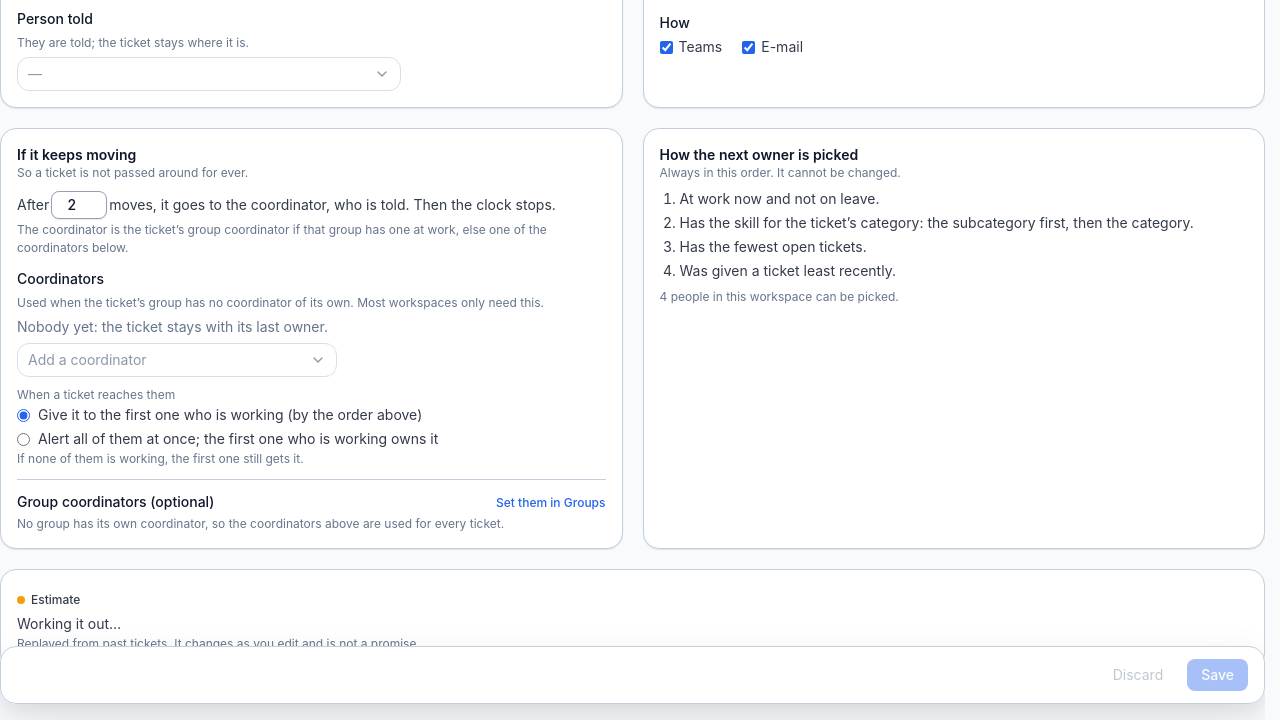
it: Urgent response: workspace coordinators › a refused save says why and keeps the draft
This screenshot has width=1280, height=720.
(page scrolled)
Click the dropdown labelled "Add a coordinator" at point(87, 360), box [17,343,337,377]
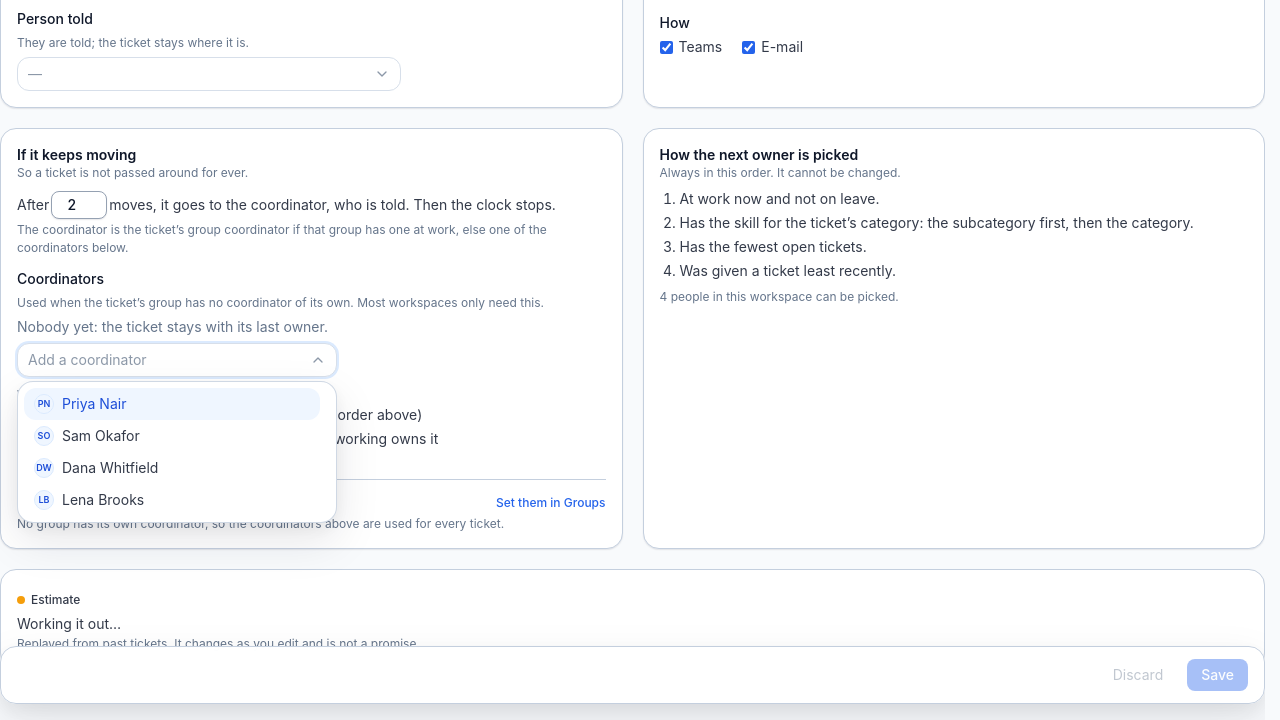
Click the option "PN Priya Nair" at point(94, 404), box [24,388,320,420]
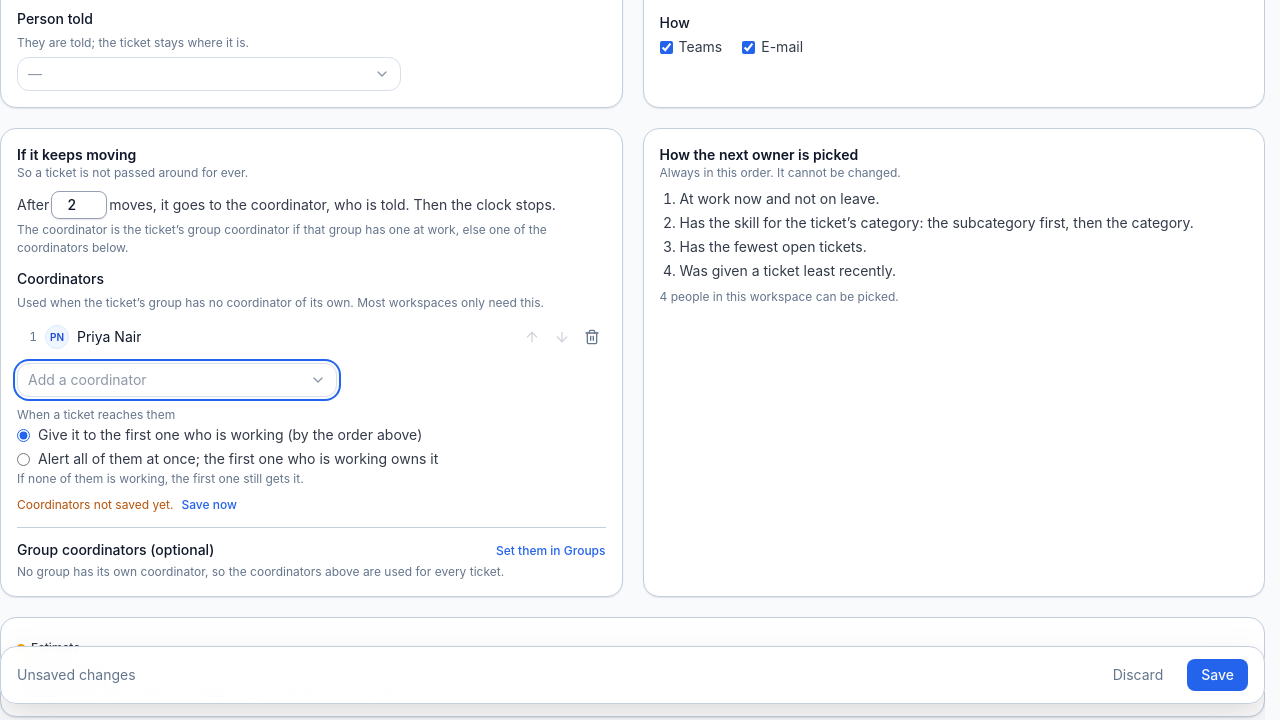
Click the button "Save" at point(1218, 675), box [1187,659,1248,691]
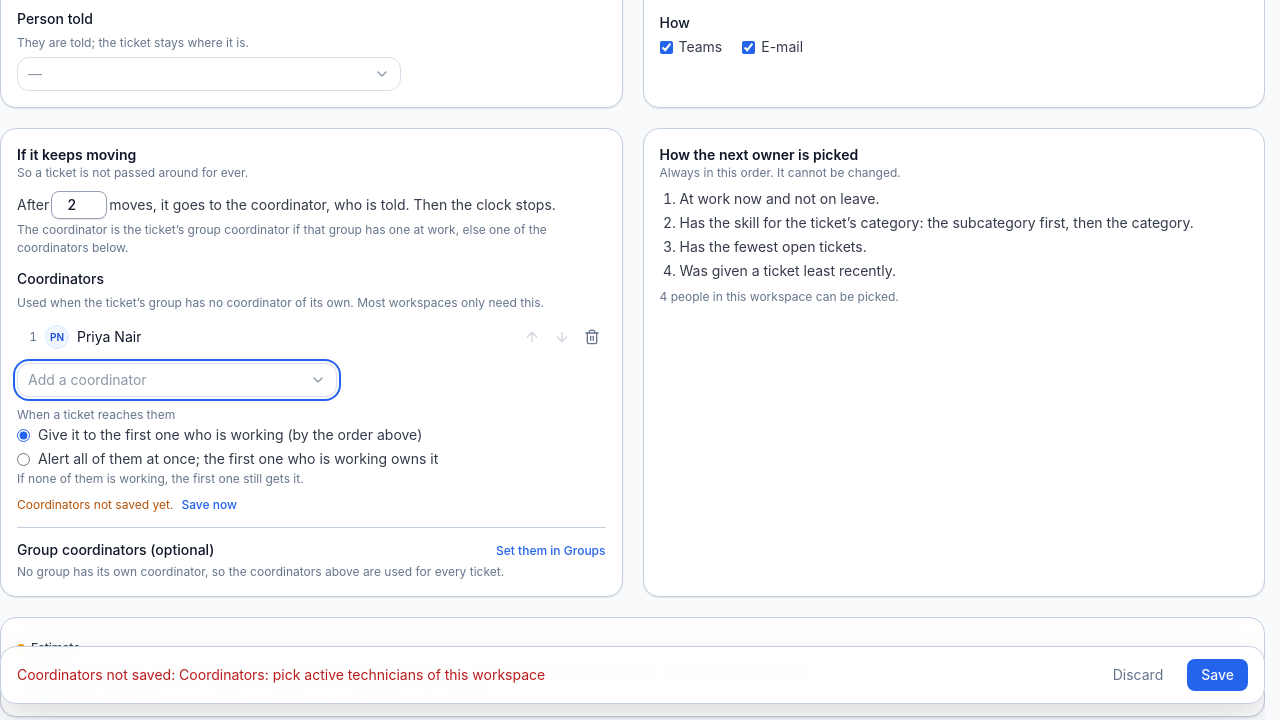
Now the text "Coordinators not saved: Coordinators: pick active technicians of this workspace" is shown, box [17,665,545,685]
